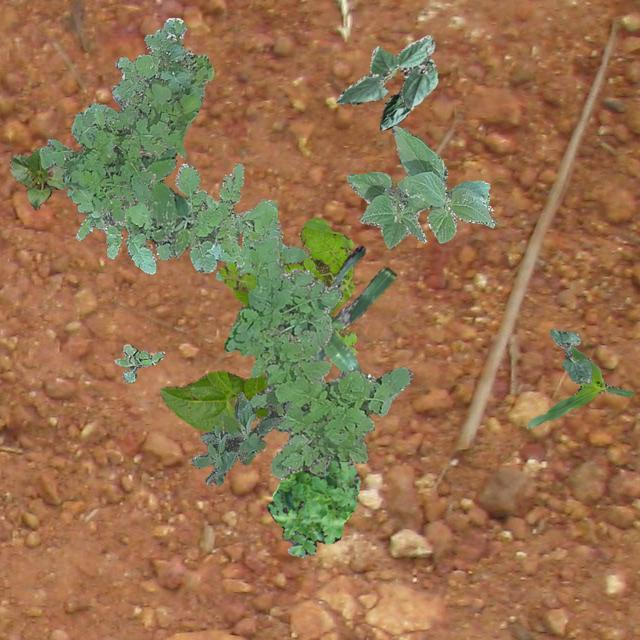crop: (346, 124, 494, 248), (312, 245, 394, 372), (524, 344, 632, 428), (336, 34, 436, 109), (159, 370, 267, 430), (8, 146, 76, 208), (379, 56, 434, 130), (549, 328, 591, 382)
weed: (224, 234, 412, 478), (39, 17, 212, 225), (67, 162, 276, 272), (218, 216, 356, 356), (266, 456, 360, 556), (190, 392, 290, 484), (122, 146, 192, 256), (214, 200, 308, 280), (114, 344, 164, 382)
